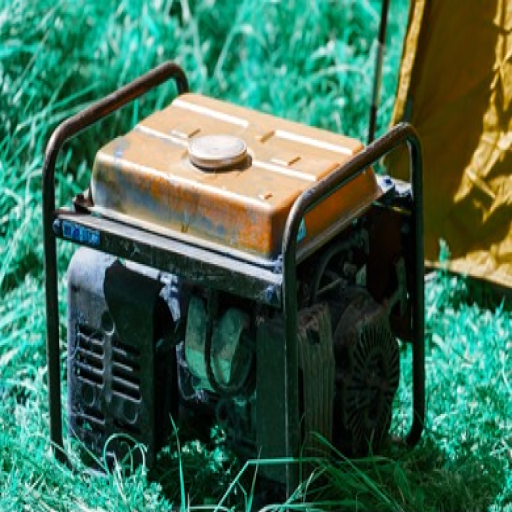portable_generator: (41, 62, 426, 503)
